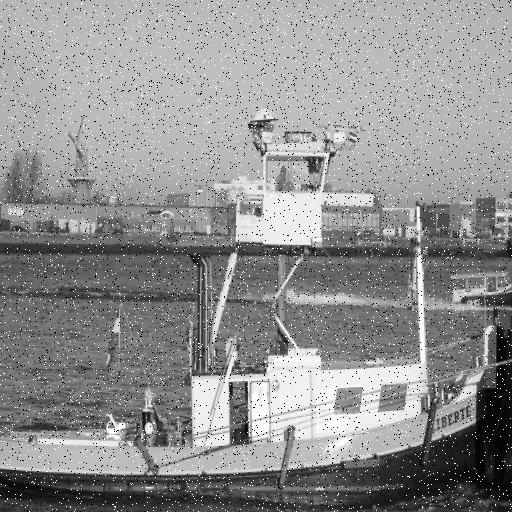tugboat: (1, 90, 503, 512)
